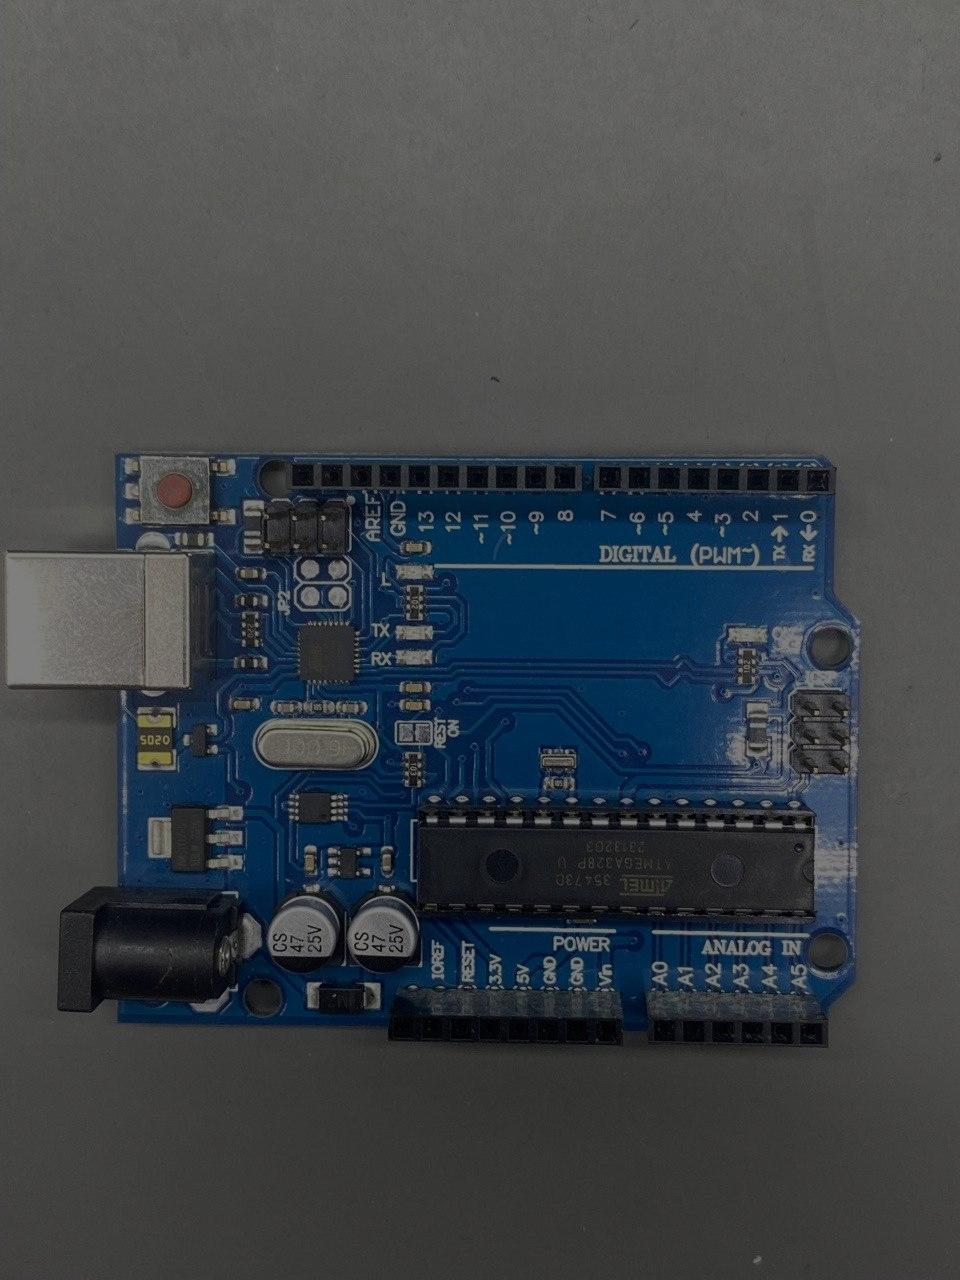ATmega328 chip: (414, 801, 818, 923)
Arduino board: (3, 453, 861, 1049)
USB: (2, 549, 217, 692)
capacitor: (266, 889, 344, 975), (346, 889, 421, 974)
pins: (388, 987, 624, 1046), (644, 991, 828, 1049), (285, 462, 583, 494), (592, 464, 837, 496)
resistor: (404, 585, 425, 621), (240, 612, 259, 648), (403, 752, 422, 787), (738, 648, 755, 684)
